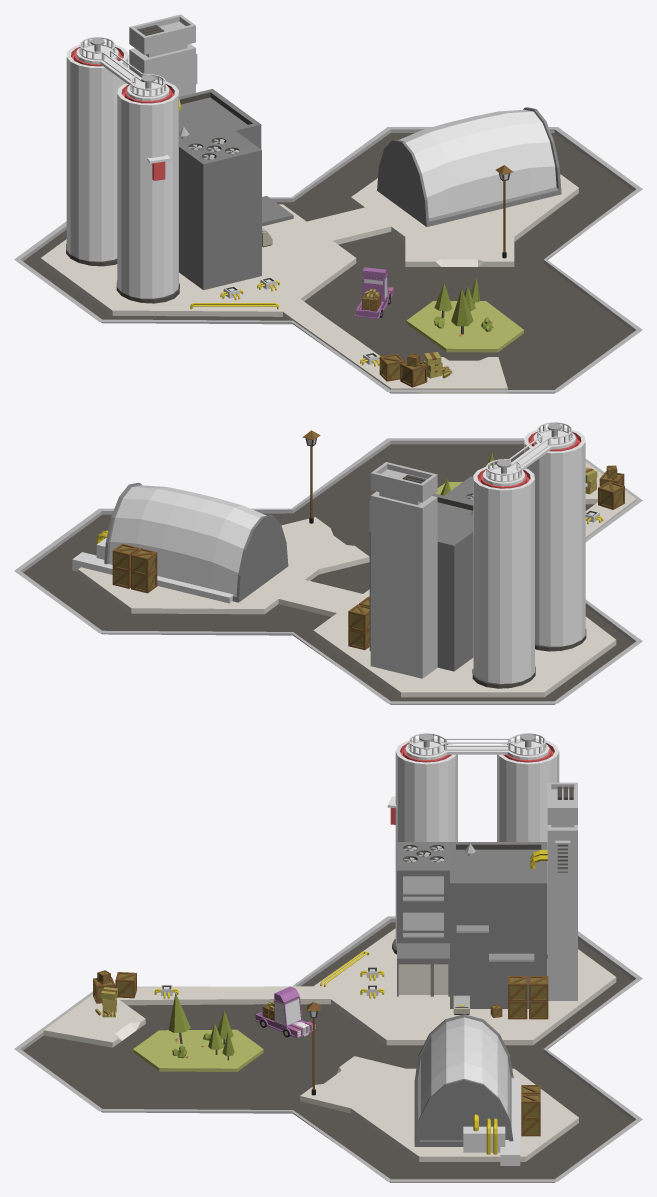
The model's file is zhgongz种子.fbx.
The picture shows the model from 3 angles, top to bottom: view 1: azimuth 30°, elevation 25°; view 2: azimuth 150°, elevation 25°; view 3: azimuth 270°, elevation 25°; orthographic projection.
Parts seen in each view (by area): view 1: Cylinder.001, Cylinder, Cube, Cylinder.002, Cylinder.003, Cube.002, Cube.030, Cube.018, Cube.020; view 2: Cylinder.001, Cylinder, Cube.002, Cylinder.002, Cube, Cylinder.003, Cube.005, Cube.020, Cube.026, Cube.010, Cube.024, Cube.027; view 3: Cylinder.001, Cube, Cylinder, Cube.002, Cylinder.002, Cylinder.003, Cube.005, Cube.030, Cube.004.
Boxes of the visible parts, box(x1,y1,x2,y2) form: Cylinder.001: box(14, 127, 642, 393); Cylinder: box(66, 37, 179, 303); Cube: box(179, 89, 293, 290); Cylinder.002: box(398, 109, 556, 218); Cylinder.003: box(377, 107, 561, 226); Cube.002: box(129, 14, 197, 96); Cube.030: box(362, 267, 388, 301); Cube.018: box(400, 361, 427, 387); Cube.020: box(379, 353, 404, 381); Cylinder.001: box(14, 438, 642, 704); Cylinder: box(472, 422, 587, 688); Cube.002: box(369, 462, 437, 678); Cylinder.002: box(109, 485, 266, 593); Cube: box(369, 476, 473, 671); Cylinder.003: box(104, 482, 288, 602); Cube.005: box(72, 552, 233, 603); Cube.020: box(598, 481, 624, 509); Cube.026: box(131, 548, 157, 576); Cube.010: box(348, 604, 369, 632); Cube.024: box(112, 543, 138, 571); Cube.027: box(131, 569, 157, 593); Cylinder.001: box(14, 916, 642, 1182); Cube: box(397, 842, 547, 1008); Cylinder: box(387, 733, 559, 958); Cube.002: box(547, 782, 577, 1000); Cylinder.002: box(418, 1017, 510, 1119); Cylinder.003: box(414, 1014, 513, 1146); Cube.005: box(500, 1078, 520, 1165); Cube.030: box(274, 986, 302, 1027); Cube.004: box(463, 1126, 505, 1152).
Size of the model in its own units: 326 by 132 by 327.
